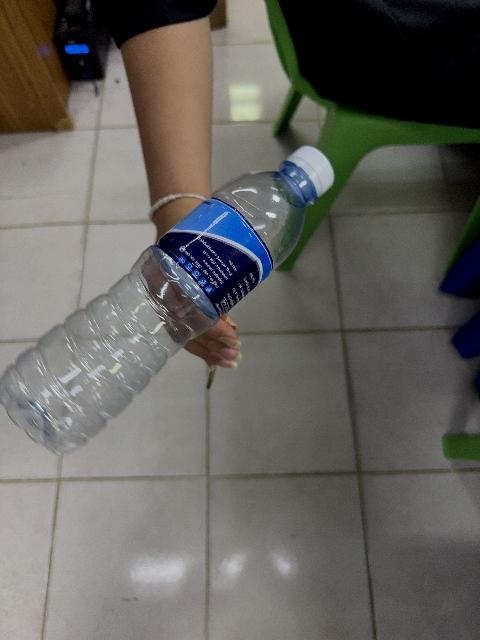bottle: (0, 147, 333, 454)
